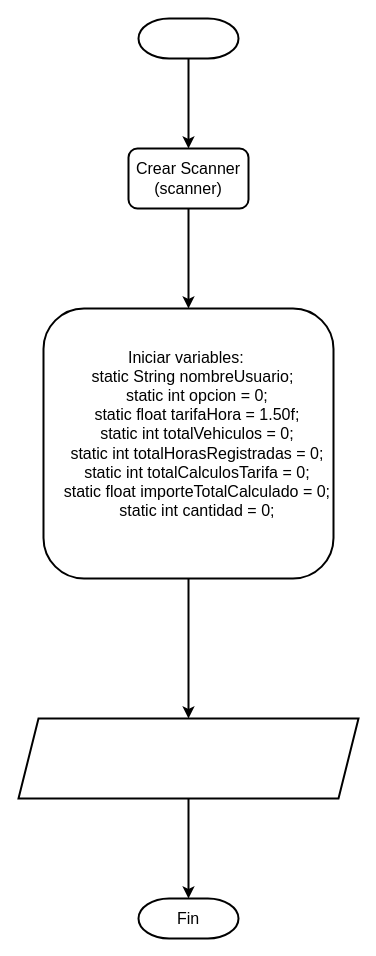
The diagram is 376 pixels wide and 956 high, and some of its shapes have lost their labels. The shapes that lost their labels are listed below. From the top down, each one's box as (x1, y1, x2, y2) in pixels, then its label:
(137, 17, 239, 59): Inicio
(17, 717, 359, 799): Mostrar "Nombre del usuario: "y leer nombreUsuario
